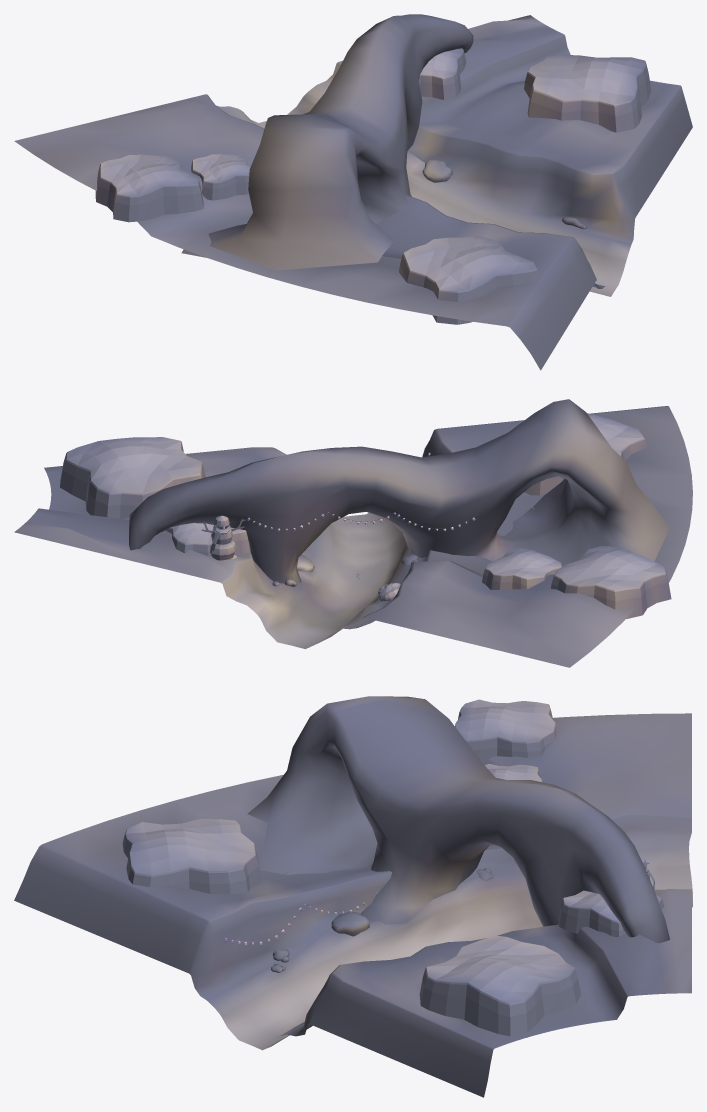
File: Arctic_Luge_Curve_Left_45_A.glb
The picture shows the model from 3 angles, top to bottom: view 1: azimuth 30°, elevation 25°; view 2: azimuth 150°, elevation 25°; view 3: azimuth 270°, elevation 25°; orthographic projection. The views are drawn at different scales.
Parts seen in each view (by area): view 1: Arctic_Luge_Curve_Left_45_A, Arctic_Luge_MediumIceRock_prop (3), Arctic_Luge_MediumIceRock_prop (4), Arctic_Luge_MediumIceRock_prop (1), Arctic_Luge_MediumIceRock_prop (2), Arctic_Luge_MediumIceRock_prop; view 2: Arctic_Luge_Curve_Left_45_A, Arctic_Luge_MediumIceRock_prop (3), Arctic_Luge_MediumIceRock_prop (1), Arctic_Luge_MediumIceRock_prop (2), Arctic_Luge_MediumIceRock_prop (4), Arctic_Luge_MediumIceRock_prop, Arctic_Snowman_01_holiday; view 3: Arctic_Luge_Curve_Left_45_A, Arctic_Luge_MediumIceRock_prop (3), Arctic_Luge_MediumIceRock_prop (4), Arctic_Luge_MediumIceRock_prop (1), Arctic_Luge_MediumIceRock_prop, Arctic_Luge_MediumIceRock_prop (2).
Part boxes in pixels (left/top/right/bottom): Arctic_Luge_Curve_Left_45_A: left=14, top=14, right=692, bottom=370; Arctic_Luge_MediumIceRock_prop (3): left=524, top=54, right=651, bottom=132; Arctic_Luge_MediumIceRock_prop (4): left=399, top=236, right=539, bottom=324; Arctic_Luge_MediumIceRock_prop (1): left=95, top=154, right=203, bottom=222; Arctic_Luge_MediumIceRock_prop (2): left=191, top=154, right=250, bottom=200; Arctic_Luge_MediumIceRock_prop: left=418, top=48, right=466, bottom=99; Arctic_Luge_Curve_Left_45_A: left=14, top=399, right=692, bottom=667; Arctic_Luge_MediumIceRock_prop (3): left=60, top=437, right=205, bottom=518; Arctic_Luge_MediumIceRock_prop (1): left=551, top=546, right=671, bottom=618; Arctic_Luge_MediumIceRock_prop (2): left=482, top=548, right=561, bottom=589; Arctic_Luge_MediumIceRock_prop (4): left=524, top=413, right=647, bottom=495; Arctic_Luge_MediumIceRock_prop: left=166, top=523, right=250, bottom=556; Arctic_Snowman_01_holiday: left=201, top=515, right=245, bottom=560; Arctic_Luge_Curve_Left_45_A: left=14, top=696, right=692, bottom=1097; Arctic_Luge_MediumIceRock_prop (3): left=419, top=935, right=580, bottom=1036; Arctic_Luge_MediumIceRock_prop (4): left=122, top=819, right=261, bottom=893; Arctic_Luge_MediumIceRock_prop (1): left=455, top=699, right=557, bottom=763; Arctic_Luge_MediumIceRock_prop: left=558, top=890, right=664, bottom=936; Arctic_Luge_MediumIceRock_prop (2): left=484, top=764, right=542, bottom=782.
Bounding box in the file's own units: 29.45 × 9.22 × 26.63.
